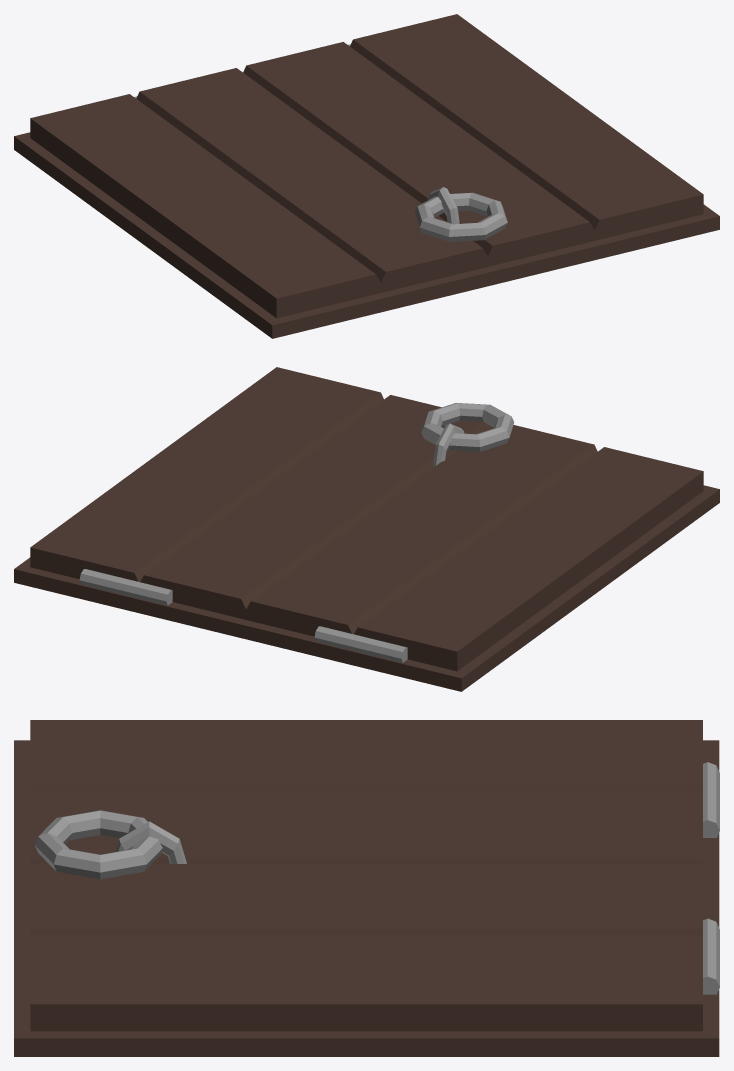
Rendered from Trapdoor.fbx.
3 renders of one model, top to bottom at view 1: azimuth 30°, elevation 25°; view 2: azimuth 150°, elevation 25°; view 3: azimuth 270°, elevation 25°, orthographic. The views are drawn at different scales.
Parts seen in each view (by area): view 1: Cube, Cube.001, Torus, Torus.001; view 2: Cube, Cube.001, Torus, Cylinder.001, Cylinder, Torus.001; view 3: Cube, Cube.001, Torus, Torus.001, Cylinder, Cylinder.001.
Part boxes in pixels (left/top/right/bottom): Cube: left=30, top=14, right=703, bottom=318; Cube.001: left=14, top=132, right=719, bottom=338; Torus: left=415, top=192, right=507, bottom=241; Torus.001: left=428, top=187, right=459, bottom=223; Cube: left=30, top=367, right=703, bottom=671; Cube.001: left=14, top=485, right=719, bottom=691; Torus: left=421, top=403, right=514, bottom=452; Cylinder.001: left=314, top=626, right=407, bottom=662; Cylinder: left=79, top=569, right=172, bottom=605; Torus.001: left=433, top=423, right=464, bottom=467; Cube: left=30, top=720, right=702, bottom=1031; Cube.001: left=14, top=740, right=719, bottom=1056; Torus: left=34, top=810, right=162, bottom=879; Torus.001: left=115, top=821, right=186, bottom=863; Cylinder: left=703, top=918, right=719, bottom=994; Cylinder.001: left=703, top=762, right=719, bottom=837.
Size of the model in its own units: 503 by 66.4 by 503.
